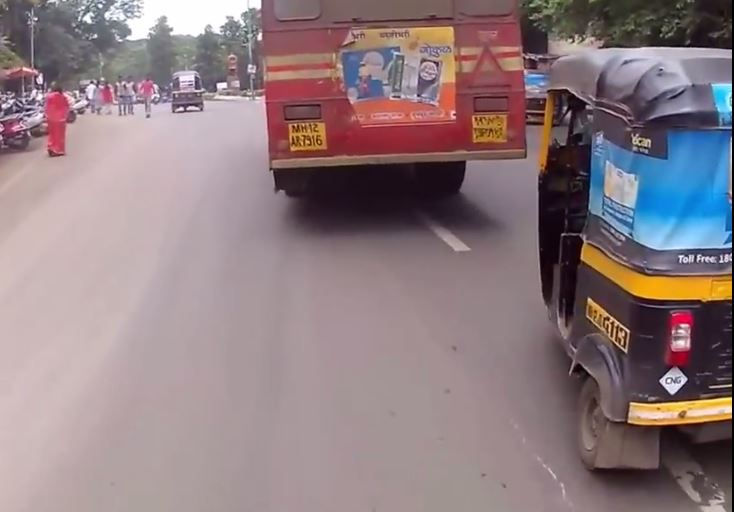autorickshaw: (530, 42, 734, 475), (165, 68, 209, 120)
